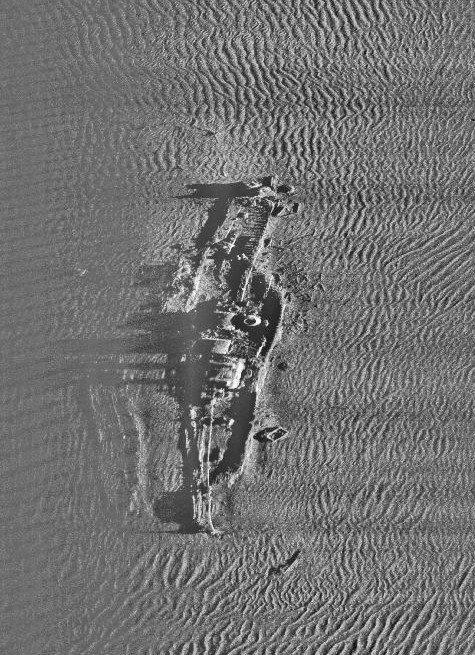ship: (177, 175, 287, 536)
